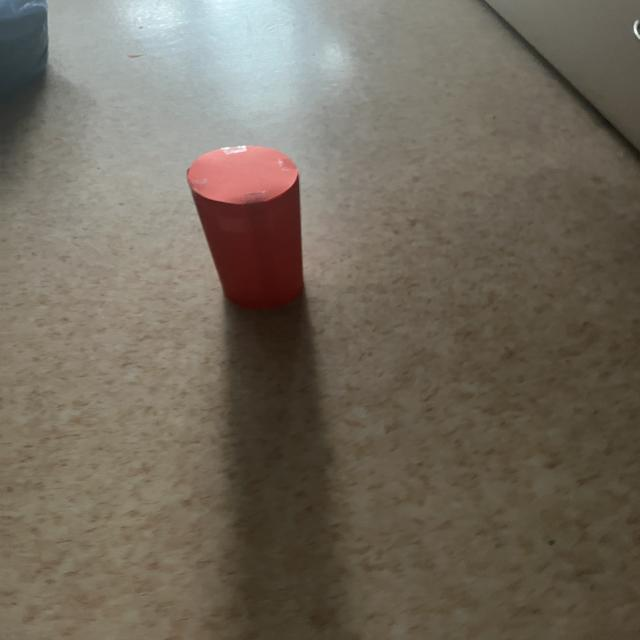przeszkoda: (252, 174, 257, 180)
